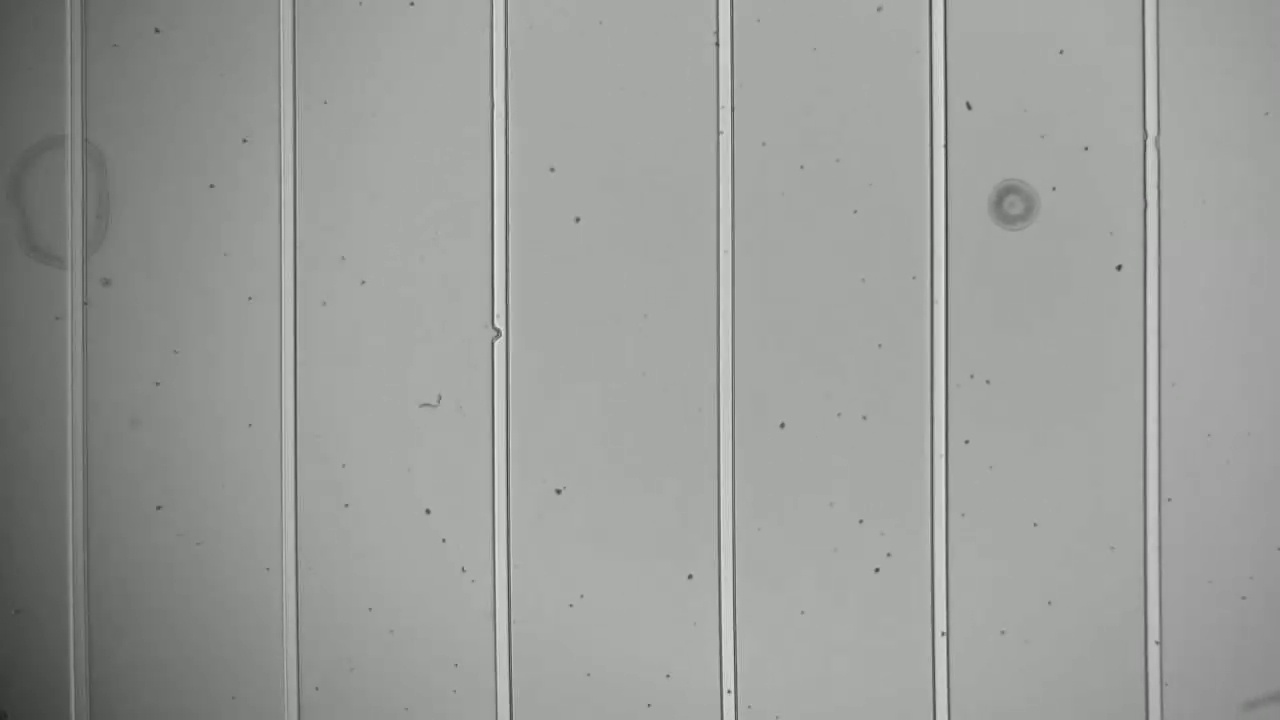edge_bite: (1131, 123, 1170, 164), (485, 318, 515, 351)
